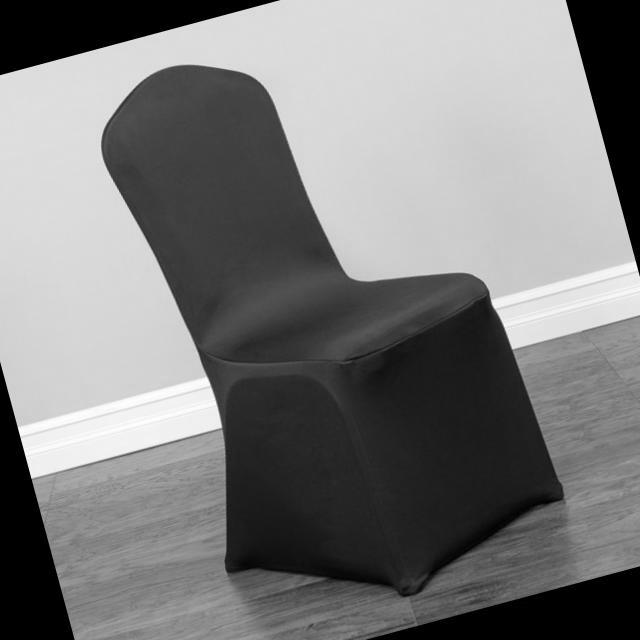chair: (80, 0, 583, 640)
